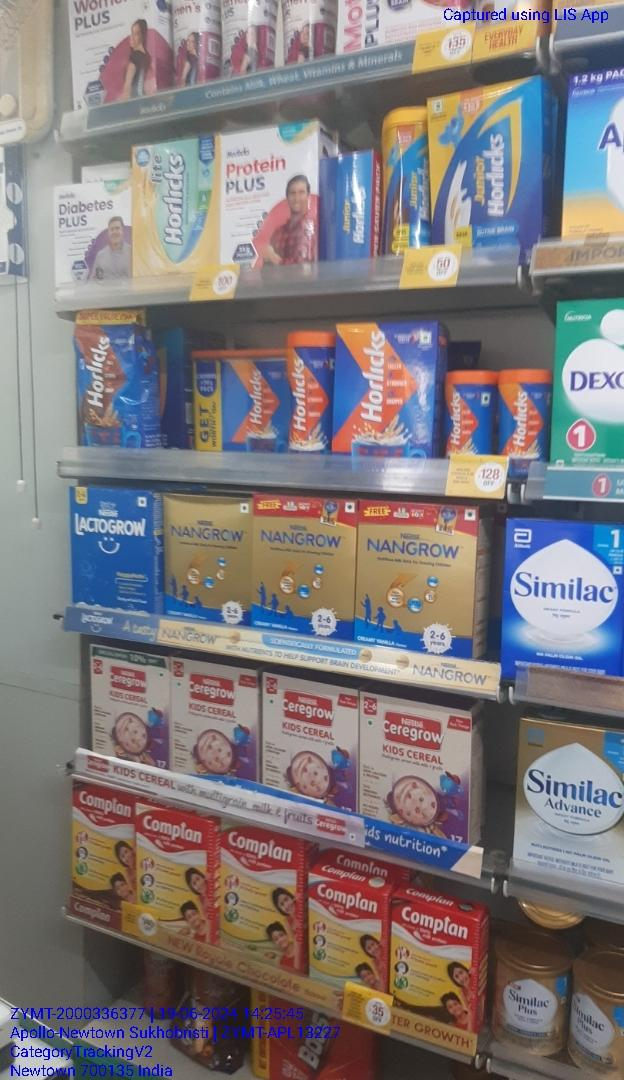COMPLAN_CREAMY_CLASSIC_500_G_PACK: (307, 874, 382, 990)
COMPLAN_PISTA_BADAM_500_GMS_PACK: (220, 816, 301, 974)
HORLICK_CHOCOLATE_200_G_JAR: (498, 371, 548, 469), (445, 371, 495, 463)
HORLICK_CHOCOLATE_500_G_JAR: (287, 327, 331, 455)
HORLICK_CHOCOLATE_500_G_PACK: (335, 324, 433, 456)
HORLICK_CHOCOLATE_750_G_POUCH: (75, 308, 136, 450)
HORLICK_MALT_1_KG_CONTAINER: (192, 350, 284, 451)
